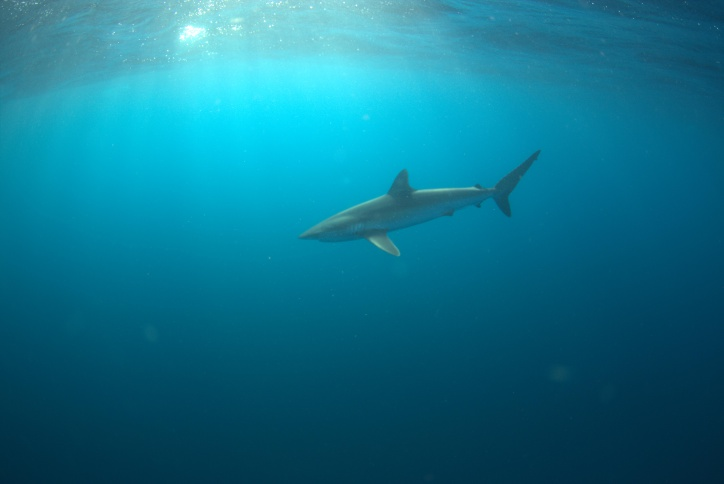Sedoso: (294, 145, 545, 260)
